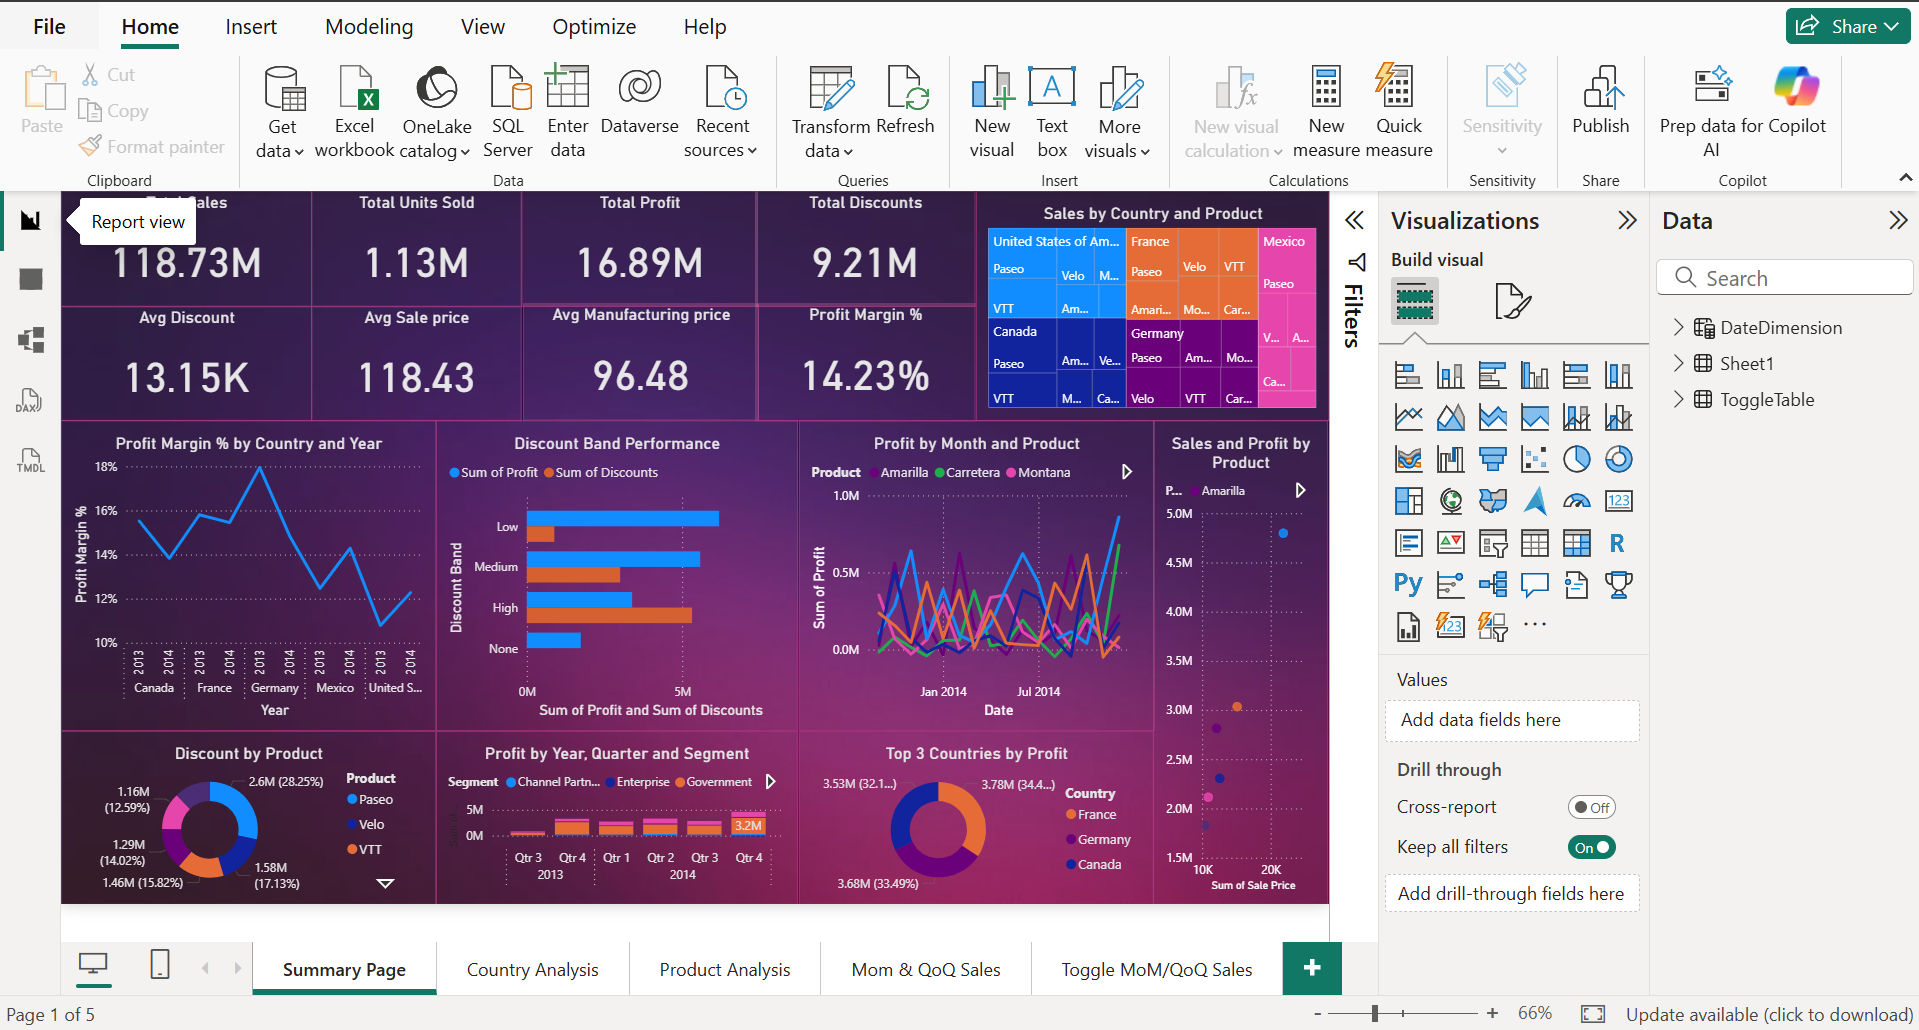

Layout of this report page (visuals, bound fields, positions):
{"tool":"powerbi","page":{"name":"Summary Page","canvas":[1280,720],"ordinal":2},"visuals":[{"type":"cardVisual","title":"Total Sales","fields":{"Data":["Sheet1.Total Sales"]},"box":[0,0,253.3,116.7],"z":0},{"type":"cardVisual","title":"Avg Discount","fields":{"Data":["Sheet1.Average Discount"]},"box":[0,116.7,253.3,115],"z":1000},{"type":"cardVisual","title":"Total Discounts","fields":{"Data":["Sum(Sheet1.Discounts)"]},"box":[703.3,0,221.7,116.7],"z":2000},{"type":"cardVisual","title":"Total Units Sold","fields":{"Data":["Sum(Sheet1.Units Sold)"]},"box":[253.3,0,211.7,116.7],"z":3000},{"type":"cardVisual","title":"Total Profit","fields":{"Data":["Sum(Sheet1.Profit)"]},"box":[465,0,238.3,116.7],"z":4000},{"type":"cardVisual","title":"Avg Manufacturing price","fields":{"Data":["Sheet1.Average Manufacturing Price"]},"box":[465,116.7,238.3,115],"z":5000},{"type":"cardVisual","title":"Profit Margin %","fields":{"Data":["Sheet1.Profit Margin %"]},"box":[703.3,116.7,221.7,120],"z":6000},{"type":"cardVisual","title":"Avg Sale price ","fields":{"Data":["Sheet1.Average Sale Price"]},"box":[253.3,116.7,211.7,115],"z":7000},{"type":"treemap","title":"Sales by Country and Product","fields":{"Group":["Sheet1.Country"],"Details":["Sheet1.Product"],"Values":["Sheet1.Total Sales"]},"box":[925,0,355,236.7],"z":8000},{"type":"lineChart","fields":{"Category":["Sheet1.Country","DateDimension.Date.Variation.Date Hierarchy.Year"],"Y":["Sheet1.Profit Margin %"]},"box":[0,231.7,378.3,313.3],"z":9000},{"type":"clusteredBarChart","title":"Discount Band Performance","fields":{"Category":["Sheet1.Discount Band"],"Y":["Sum(Sheet1.Profit)","Sum(Sheet1.Discounts)"]},"box":[378.3,231.7,365,313.3],"z":10000},{"type":"donutChart","title":"Profit by Product","fields":{"Category":["Sheet1.Product"],"Y":["Sum(Sheet1.Profit)"]},"box":[0,545,378.3,175],"z":11000},{"type":"columnChart","title":"Profit by Year, Quarter and Segment","fields":{"Category":["DateDimension.Date.Variation.Date Hierarchy.Year","DateDimension.Date.Variation.Date Hierarchy.Quarter"],"Y":["Sum(Sheet1.Profit)"],"Series":["Sheet1.Segment"]},"box":[378.3,545,365,175],"z":12000},{"type":"areaChart","title":"Profit by Month and Product","fields":{"Category":["DateDimension.Date.Variation.Date Hierarchy.Month"],"Y":["Sum(Sheet1.Profit)"],"Series":["Sheet1.Product"]},"box":[745,236.7,358.3,308.3],"z":13000},{"type":"donutChart","title":"Top 3 Countries by Profit ","fields":{"Category":["Sheet1.Country"],"Y":["Sum(Sheet1.Profit)"]},"box":[745,545,358,175],"z":14000},{"type":"scatterChart","title":"Sales and Profit by Product","fields":{"X":["Sum(Sheet1.Sale Price)"],"Y":["Sum(Sheet1.Profit)"],"Series":["Sheet1.Product"]},"box":[1103.3,236.7,176.7,483.3],"z":15000}]}

Visuals, with their boxes on the page's 1280x720 design canvas (x1, y1, x2, y2). These are canvas units, not pixel positions in the 1919x1030 screenshot, which may show the page scaled, cropped or inside an application window:
"Total Sales" cardVisual: rect(0, 0, 253, 117)
"Avg Discount" cardVisual: rect(0, 117, 253, 232)
"Total Discounts" cardVisual: rect(703, 0, 925, 117)
"Total Units Sold" cardVisual: rect(253, 0, 465, 117)
"Total Profit" cardVisual: rect(465, 0, 703, 117)
"Avg Manufacturing price" cardVisual: rect(465, 117, 703, 232)
"Profit Margin %" cardVisual: rect(703, 117, 925, 237)
"Avg Sale price " cardVisual: rect(253, 117, 465, 232)
"Sales by Country and Product" treemap: rect(925, 0, 1280, 237)
lineChart - Sheet1.Country x DateDimension.Date.Variation.Date Hierarchy.Year: rect(0, 232, 378, 545)
"Discount Band Performance" clusteredBarChart: rect(378, 232, 743, 545)
"Profit by Product" donutChart: rect(0, 545, 378, 720)
"Profit by Year, Quarter and Segment" columnChart: rect(378, 545, 743, 720)
"Profit by Month and Product" areaChart: rect(745, 237, 1103, 545)
"Top 3 Countries by Profit " donutChart: rect(745, 545, 1103, 720)
"Sales and Profit by Product" scatterChart: rect(1103, 237, 1280, 720)
